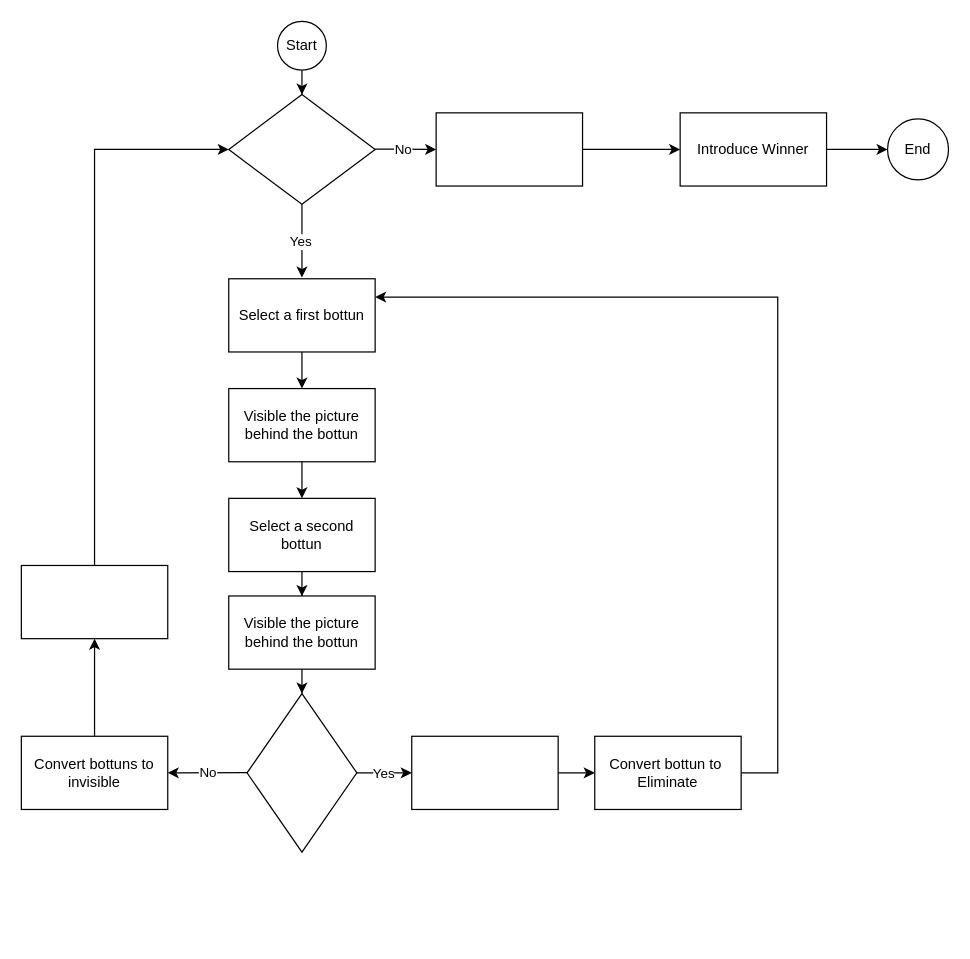
The diagram is 970 pixels wide and 959 high, and some of its shapes have lost their labels. The shapes that lost their labels are listed below. From the top down, each one's centre as x and y in pixels, then its label:
At (x=301, y=148): "Is there any invisible bottun left?".
At (x=509, y=149): "Which player has a higher point".
At (x=94, y=601): "Next Player Turn".
At (x=301, y=772): "If the picture one and second is the same".
At (x=484, y=772): "Add one point to player".
